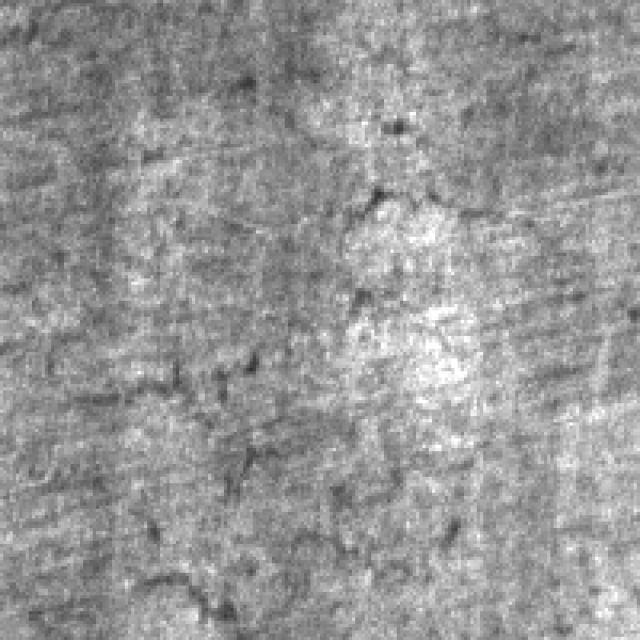crazing: (22, 444, 474, 634), (16, 314, 390, 512), (320, 131, 582, 349)
